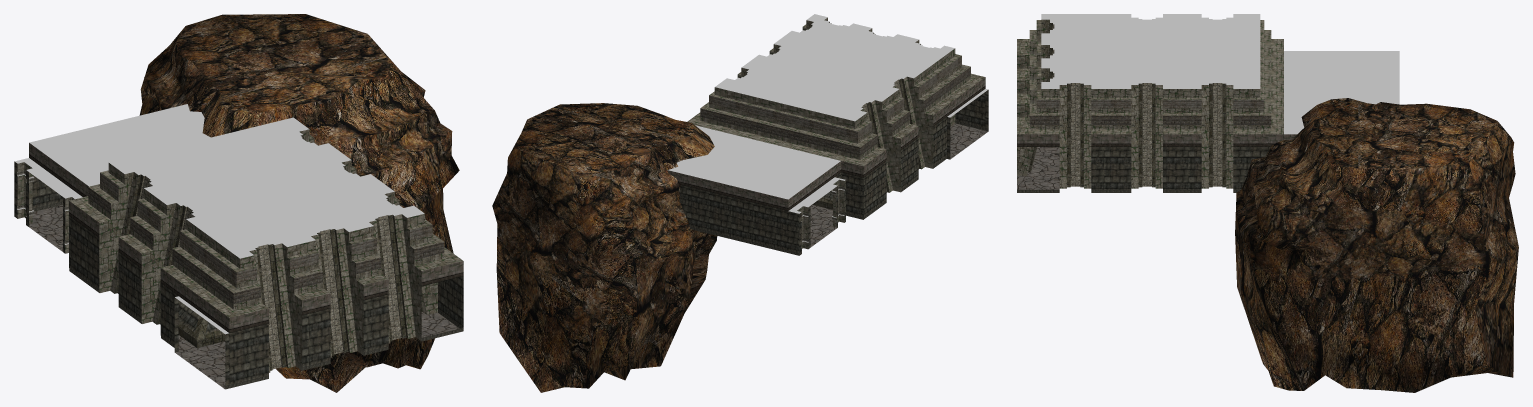
Rendered from thm_yavn_temple_exar_kun_r9_mesh_r9.fbx.
The picture shows the model from 3 angles, left to right: view 1: azimuth 30°, elevation 25°; view 2: azimuth 150°, elevation 25°; view 3: azimuth 270°, elevation 25°; orthographic projection. The views are drawn at different scales.
Visible parts, largest first — view 1: mesh_node; view 2: mesh_node; view 3: mesh_node.
Boxes of the visible parts, <box> form: mesh_node: <box>14,14,463,392</box>; mesh_node: <box>492,14,988,392</box>; mesh_node: <box>1017,14,1518,392</box>.
Size of the model in its own units: 26.88 by 20.24 by 35.72.
